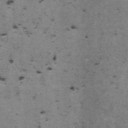oxide scale of temperature system: (0, 56, 57, 82), (50, 18, 88, 39), (0, 22, 30, 37), (6, 0, 14, 5), (93, 62, 100, 66), (112, 74, 117, 78), (70, 85, 74, 90), (38, 0, 44, 3), (82, 8, 86, 12), (41, 110, 45, 114), (38, 124, 42, 128)
